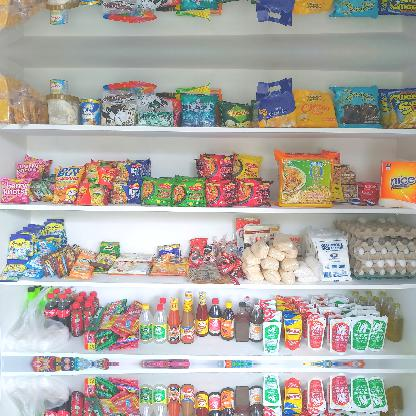Lady-s-Choice: (45, 94, 79, 124), (45, 0, 80, 11)
